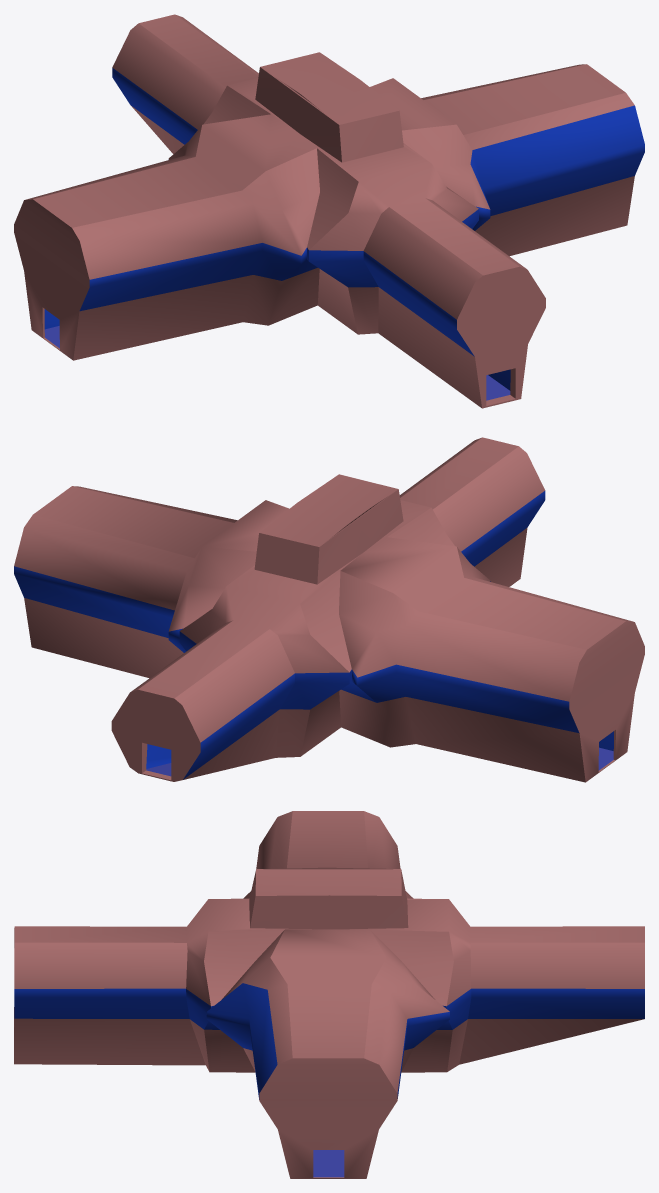
The model's file is SS Module Connect 4Way.FBX.
The picture shows the model from 3 angles, top to bottom: view 1: azimuth 30°, elevation 25°; view 2: azimuth 150°, elevation 25°; view 3: azimuth 270°, elevation 25°; orthographic projection. The views are drawn at different scales.
Visible parts, largest first — view 1: Gengon010, Floor025; view 2: Gengon010; view 3: Gengon010, Floor025.
Part boxes in pixels (bbox=[...]): Gengon010: bbox=[14, 14, 644, 408]; Floor025: bbox=[44, 326, 510, 400]; Gengon010: bbox=[14, 437, 644, 782]; Gengon010: bbox=[14, 811, 644, 1178]; Floor025: bbox=[313, 1150, 344, 1177].
Bounding box in the file's own units: 75.7 × 25.11 × 81.31.
